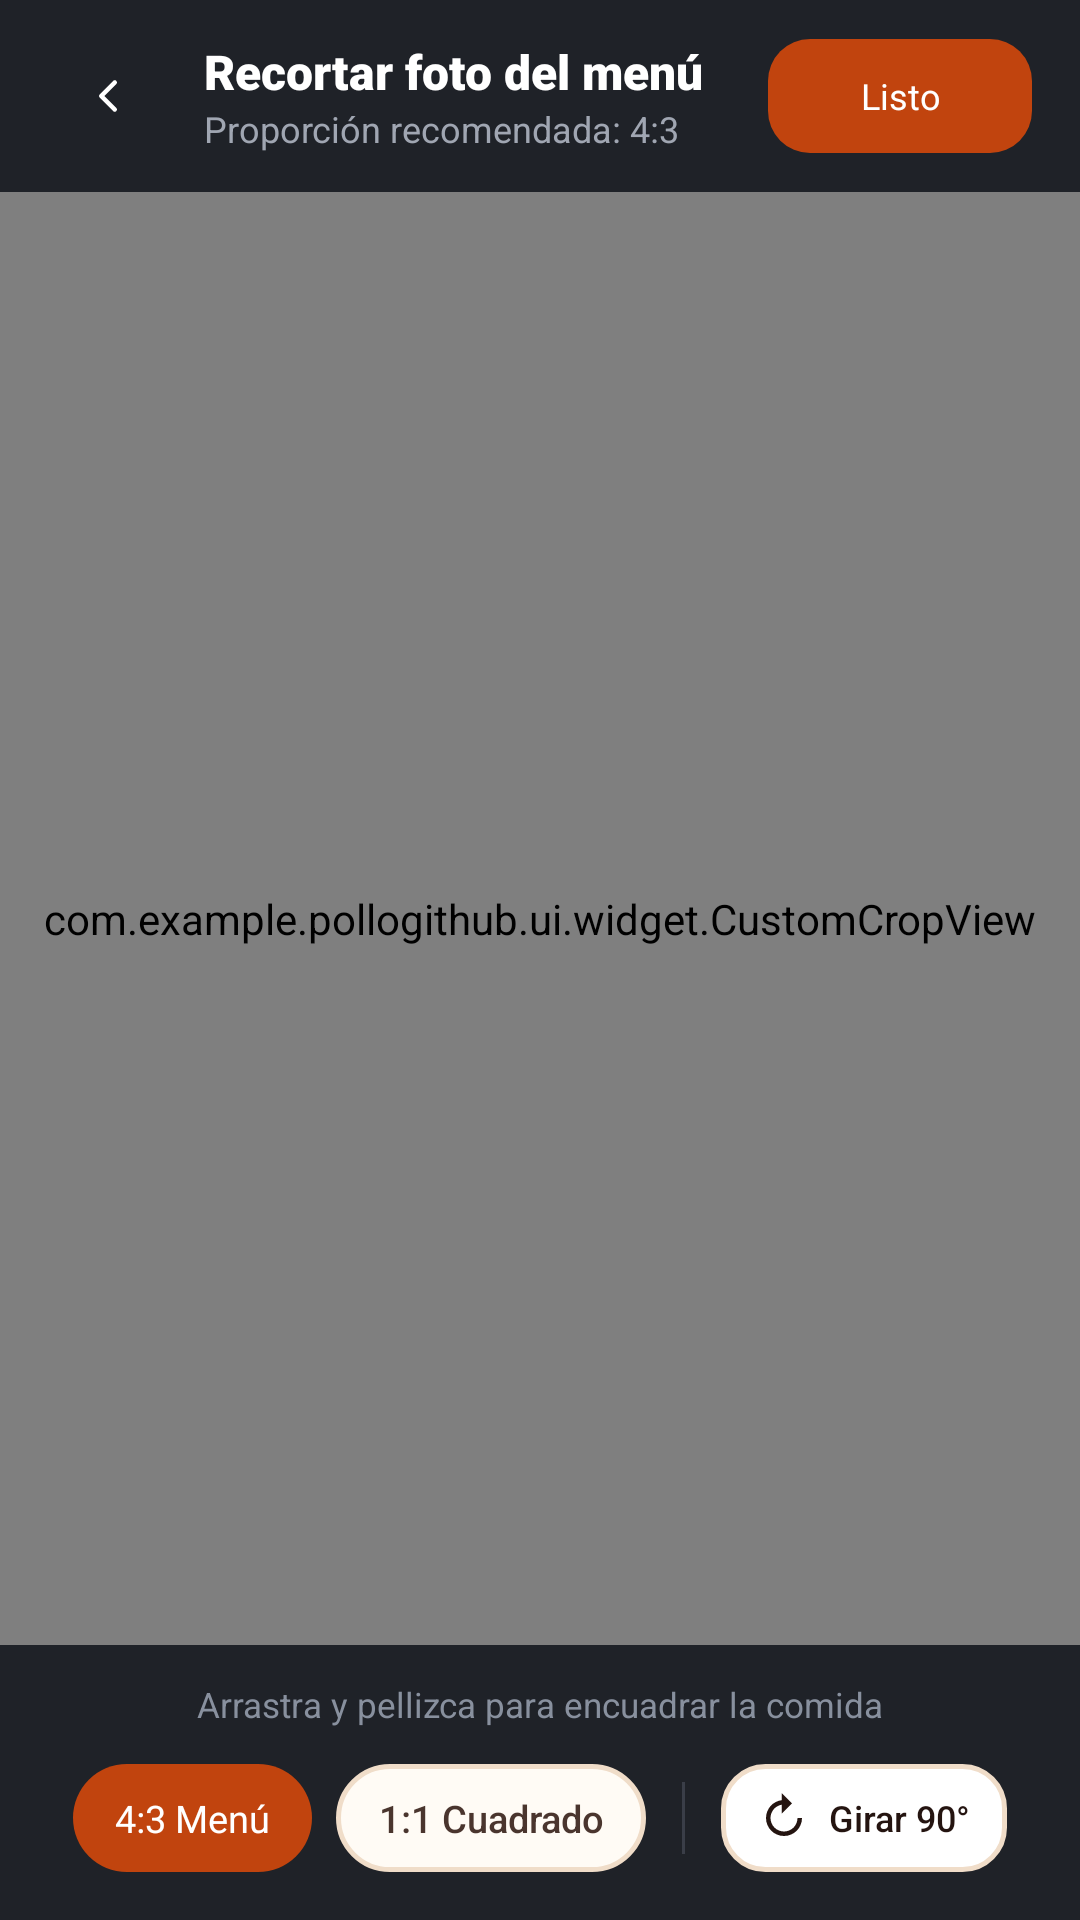

Locate icon controls on the screen. Image size 1080 × 1920, boxes as (x1, y1, x2, y2).
Cancelar: (99, 80, 117, 112)
rotate: (766, 1793, 802, 1836)
